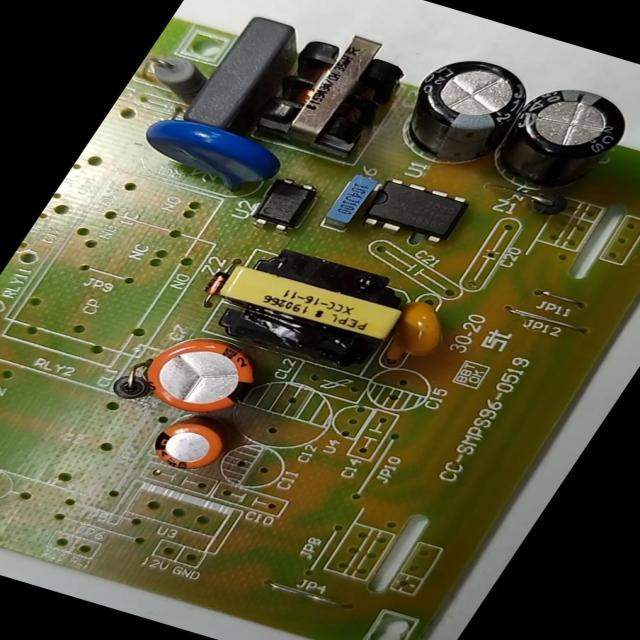Cap1: (112, 321, 287, 432)
Cap2: (128, 402, 251, 487)
Cap3: (377, 45, 555, 177)
Cap4: (471, 66, 639, 210)
MOSFET: (346, 170, 486, 256)
Mov: (118, 105, 296, 206)
Resistor: (130, 42, 223, 106)
Transformer: (184, 233, 435, 387), (240, 18, 427, 164)
